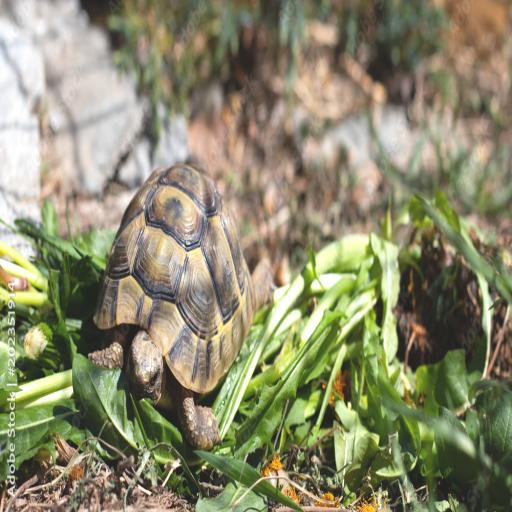turtle: (82, 153, 261, 452)
